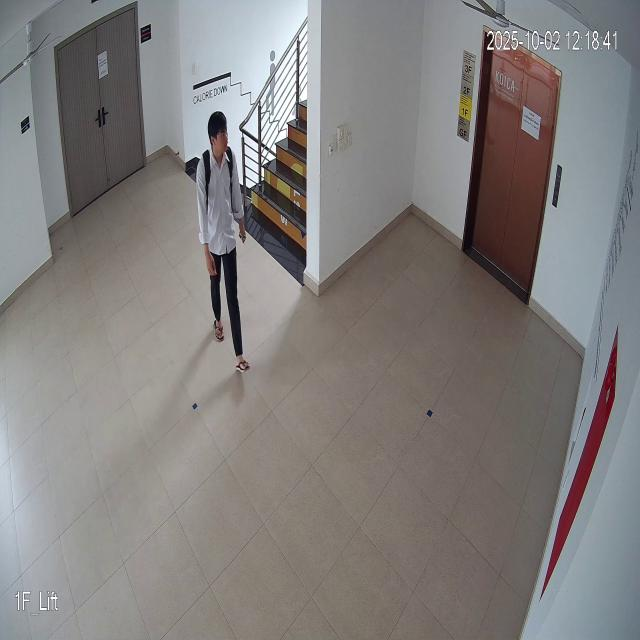face: (207, 103, 230, 164)
